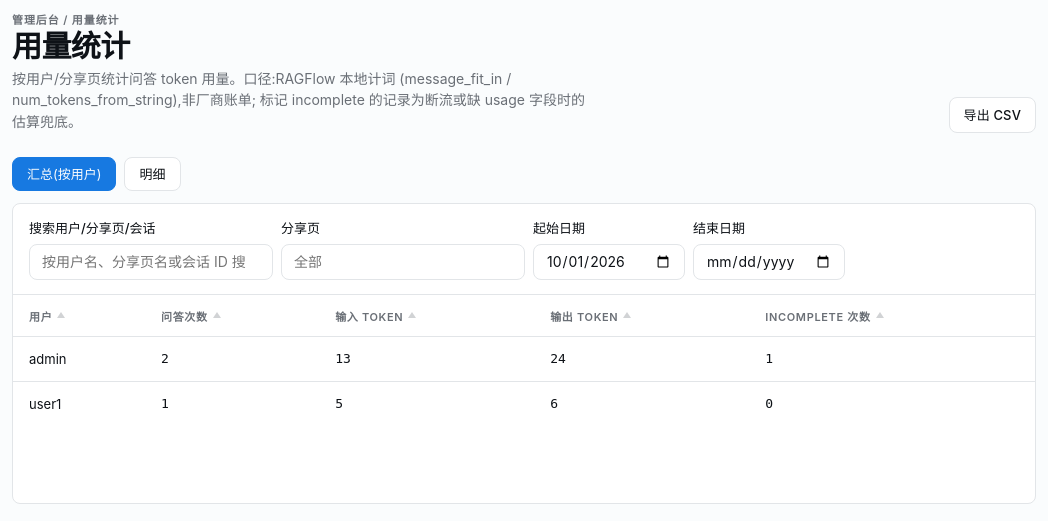
Test: UsageStatsAdminPage › 按分享页筛选(搜索 combobox),汇总随之变化
Check: the row with test id "usage-summary-row-u_admin" is shown, box top-left (13, 336), bottom-right (1035, 382)
Click the dropdown labelled "分享页" at (403, 262), box top-left (281, 244), bottom-right (525, 280)
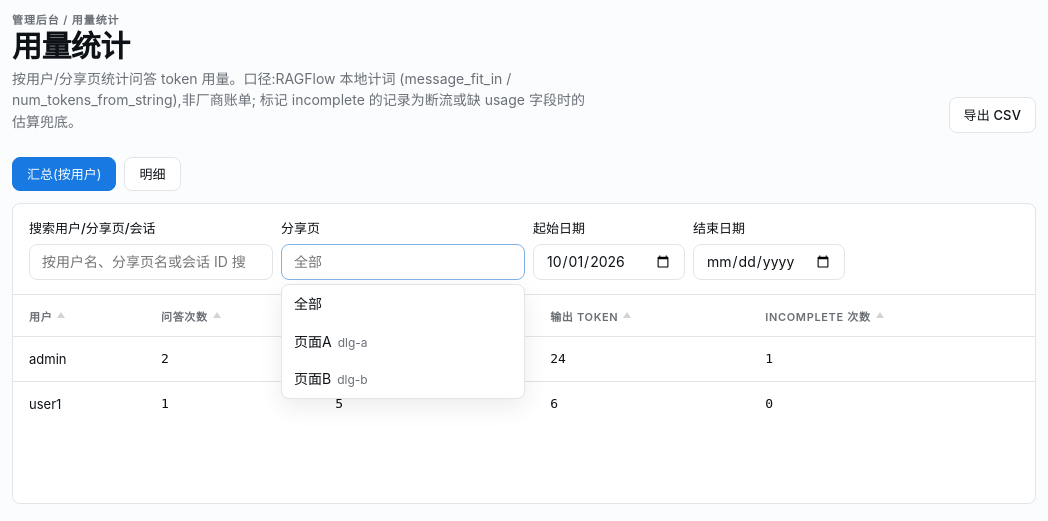
Click the option "页面B dlg-b" at (331, 379), box top-left (294, 370), bottom-right (368, 387)
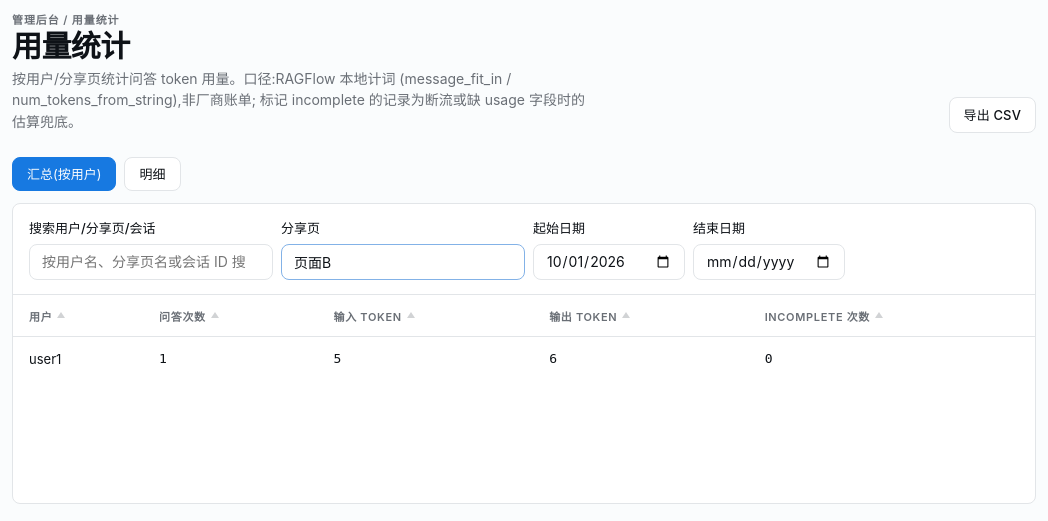
Check: the row with test id "usage-summary-row-u_admin" is gone
Check: the cells read "user1", "1", "5", "6", "0", in this order, box top-left (13, 336), bottom-right (143, 381); top-left (143, 336), bottom-right (318, 381); top-left (318, 336), bottom-right (533, 381); top-left (533, 336), bottom-right (749, 381); top-left (749, 336), bottom-right (1035, 381)
